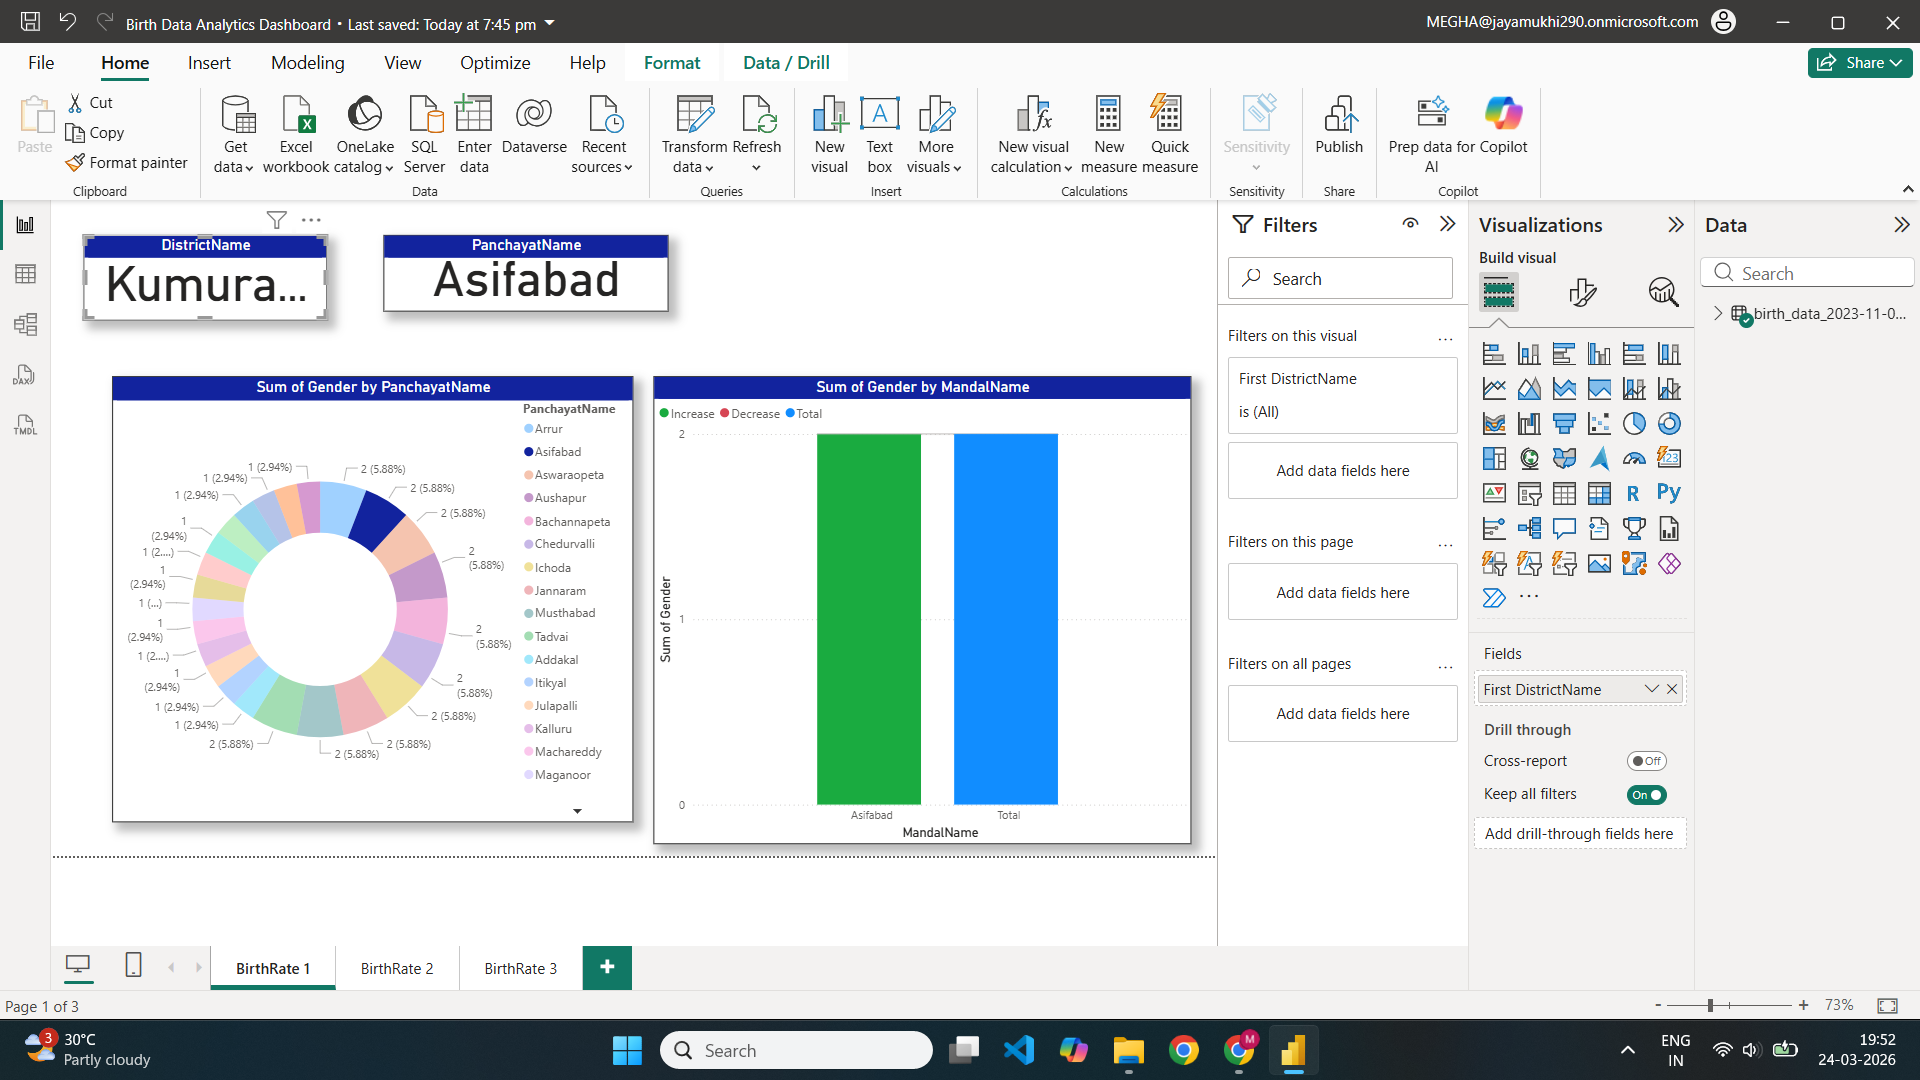

The page's visual inventory and layout, read from the dashboard file:
{"tool":"powerbi","page":{"name":" BirthRate 1","canvas":[1280,720],"ordinal":0},"visuals":[{"type":"donutChart","fields":{"Y":["Sum(birth_data_2023-11-01_2023-11-30.Gender)"],"Category":["birth_data_2023-11-01_2023-11-30.PanchayatName"]},"box":[67.2,193.5,572.2,489.9],"z":0},{"type":"waterfallChart","fields":{"Category":["birth_data_2023-11-01_2023-11-30.MandalName"],"Y":["Sum(birth_data_2023-11-01_2023-11-30.Gender)"]},"box":[661.4,193.5,590.1,513.2],"z":1000},{"type":"card","title":"DistrictName","fields":{"Values":["Min(birth_data_2023-11-01_2023-11-30.DistrictName)"]},"box":[35.7,38.4,279.9,93.3],"z":2000},{"type":"card","title":"PanchayatName","fields":{"Values":["Min(birth_data_2023-11-01_2023-11-30.PanchayatName)"]},"box":[365,38.4,312.9,83.7],"z":3000}]}

Visuals, with their boxes on the page's 1280x720 design canvas (x1, y1, x2, y2). These are canvas units, not pixel positions in the 1920x1080 screenshot, which may show the page scaled, cropped or inside an application window:
donutChart - Sum(birth_data_2023-11-01_2023-11-30.Gender) x birth_data_2023-11-01_2023-11-30.PanchayatName: region(67, 194, 639, 683)
waterfallChart - birth_data_2023-11-01_2023-11-30.MandalName x Sum(birth_data_2023-11-01_2023-11-30.Gender): region(661, 194, 1252, 707)
"DistrictName" card: region(36, 38, 316, 132)
"PanchayatName" card: region(365, 38, 678, 122)
